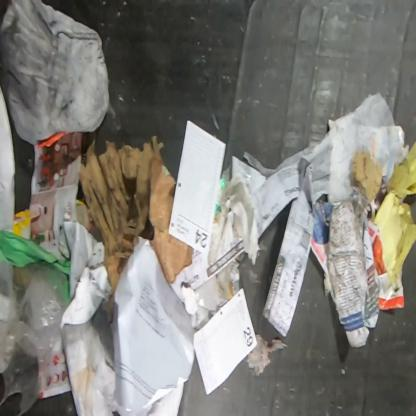soft_plastic: (1, 258, 70, 412)
